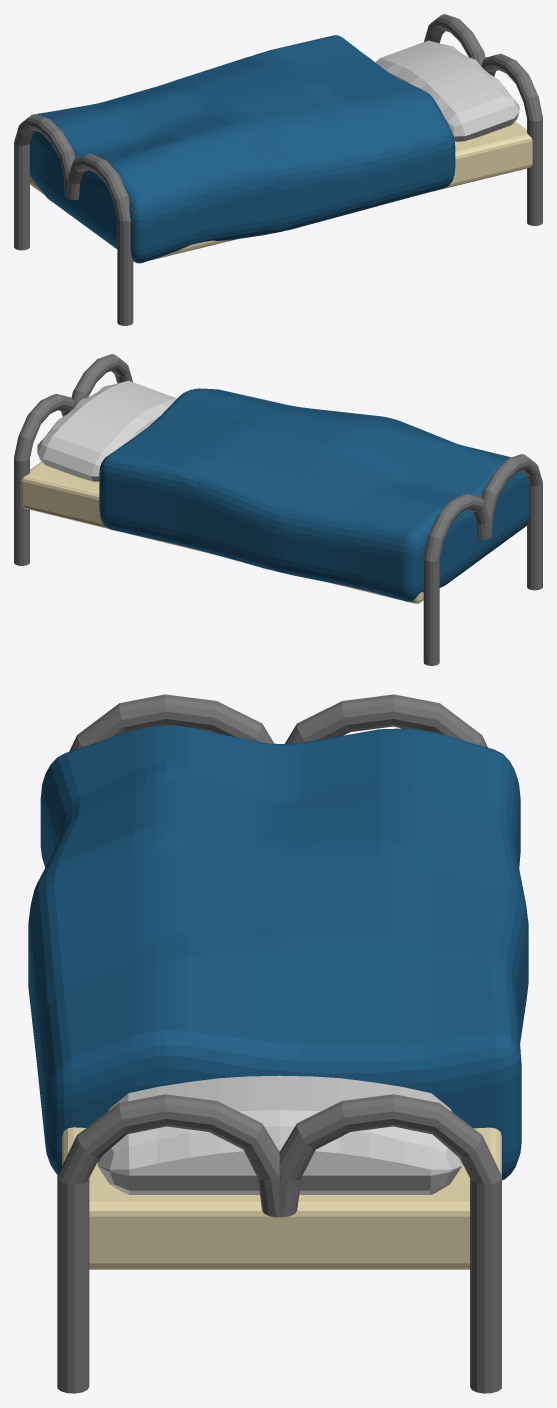
Rendered from Lit-Solo.fbx.
The picture shows the model from 3 angles, top to bottom: view 1: azimuth 30°, elevation 25°; view 2: azimuth 150°, elevation 25°; view 3: azimuth 270°, elevation 25°; orthographic projection. The views are drawn at different scales.
Parts seen in each view (by area): view 1: Cube.012, Cylinder, Cube.011, Cube.010; view 2: Cube.012, Cylinder, Cube.011, Cube.010; view 3: Cube.012, Cylinder, Cube.010, Cube.011.
Boxes of the visible parts, x1,y1,x2,y2 form: Cube.012: (30, 35, 455, 263); Cylinder: (14, 14, 542, 325); Cube.011: (375, 40, 519, 141); Cube.010: (30, 121, 532, 260); Cube.012: (99, 388, 529, 601); Cylinder: (14, 354, 542, 665); Cube.011: (37, 380, 176, 481); Cube.010: (21, 461, 423, 603); Cube.012: (28, 725, 528, 1180); Cylinder: (57, 694, 501, 1393); Cube.010: (62, 1127, 501, 1269); Cube.011: (97, 1075, 462, 1194).
Size of the model in its own units: 604 by 199 by 309.
